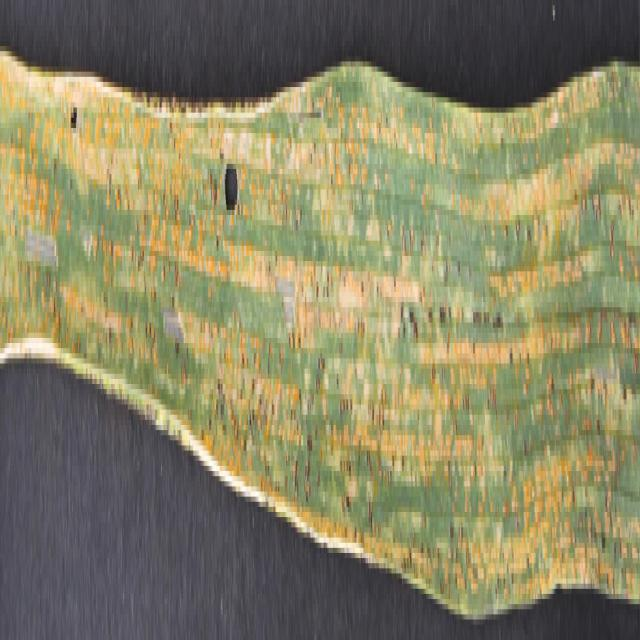leaf rust: (1, 31, 640, 599)
